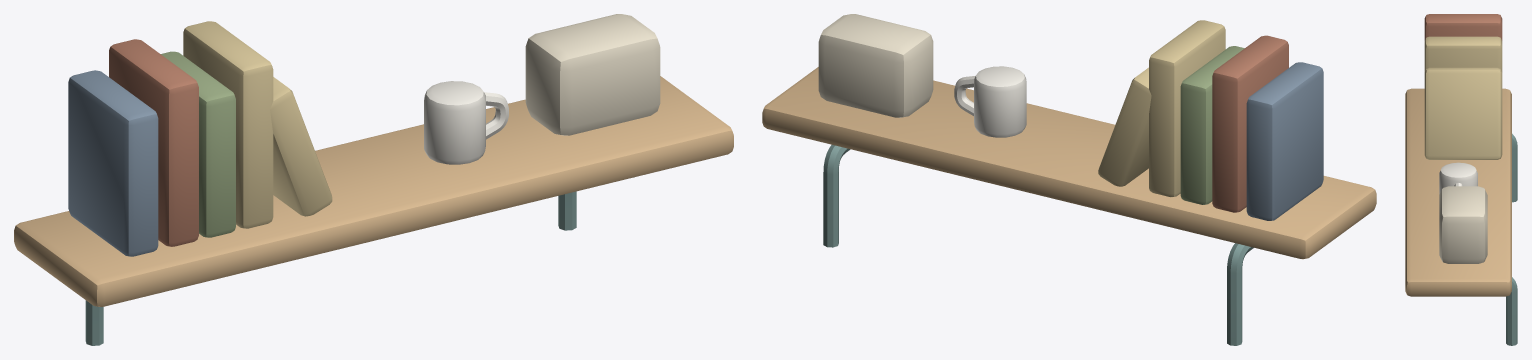
The model's file is wall_shelf.glb.
3 renders of one model, left to right at view 1: azimuth 30°, elevation 25°; view 2: azimuth 150°, elevation 25°; view 3: azimuth 270°, elevation 25°, orthographic. The views are drawn at different scales.
Visible parts, largest first — view 1: wood, book_a, book_d, cream, book_b, book_c, sheet, paint; view 2: wood, book_a, book_d, cream, book_b, book_c, sheet, paint; view 3: wood, book_d, cream, book_b, paint, sheet.
Part boxes in pixels (x1,y1,x2,y2): wood: (14,76,733,306); book_a: (68,70,158,256); book_d: (183,21,332,228); cream: (525,14,660,135); book_b: (109,39,198,246); book_c: (161,51,235,237); sheet: (424,81,508,164); paint: (85,191,576,345); wood: (762,67,1376,259); book_a: (1246,62,1323,220); book_d: (1098,20,1225,197); cream: (818,14,933,117); book_b: (1212,35,1288,212); book_c: (1180,46,1244,204); sheet: (954,66,1026,137); paint: (823,145,1253,345); wood: (1405,88,1511,296); book_d: (1424,36,1502,159); cream: (1439,186,1487,263); book_b: (1424,14,1502,40); paint: (1506,133,1517,345); sheet: (1439,162,1477,194).
Size of the model in its own units: 0.95 by 0.43 by 0.232.
